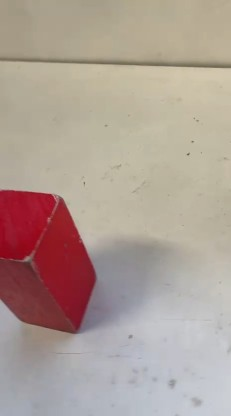red: (5, 183, 96, 335)
